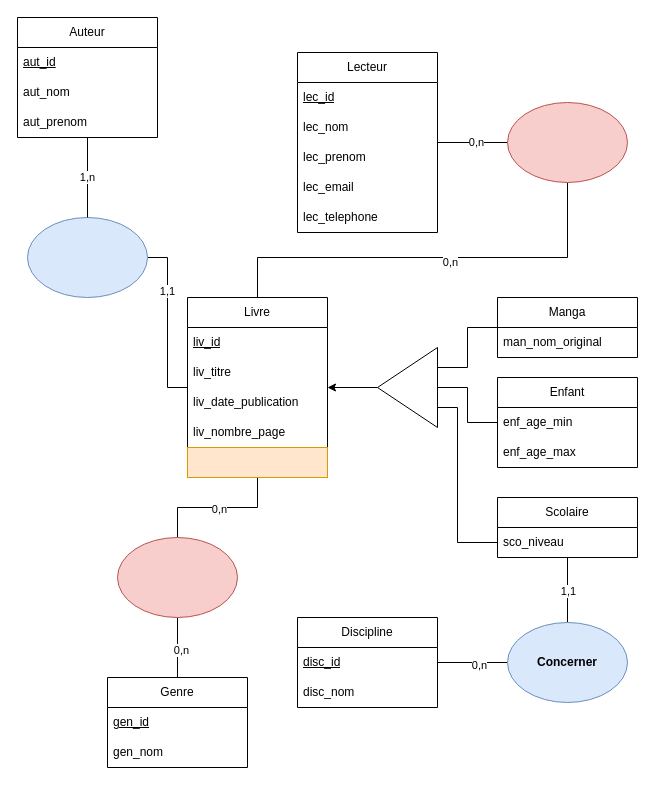
Some shapes in this 655 by 785 pixel diagram are drawn without their labels. Here are the shapes that lost their labels. From the top down, the centre of each, then its label:
At point 567,142: "Emprunter emp_date_emprunt emp_date_retour".
At point 87,257: "Ecrit".
At point 257,462: "liv_statut_emprunt".
At point 177,577: "Categoriser".
